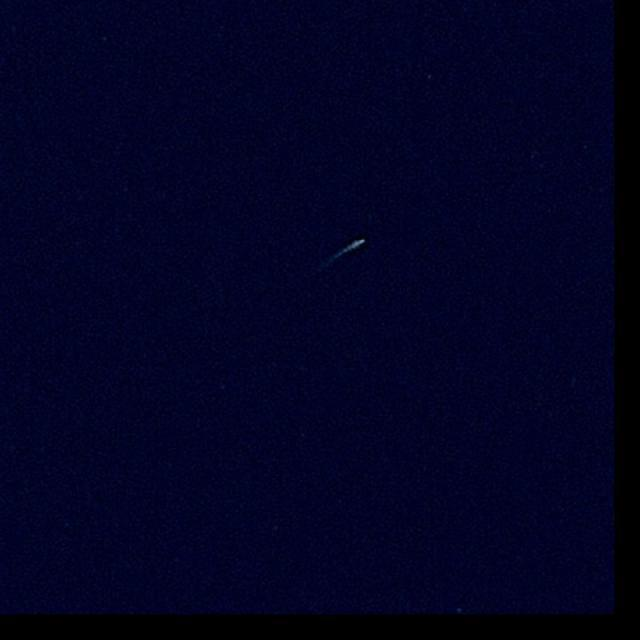ship: (356, 239, 366, 246)
